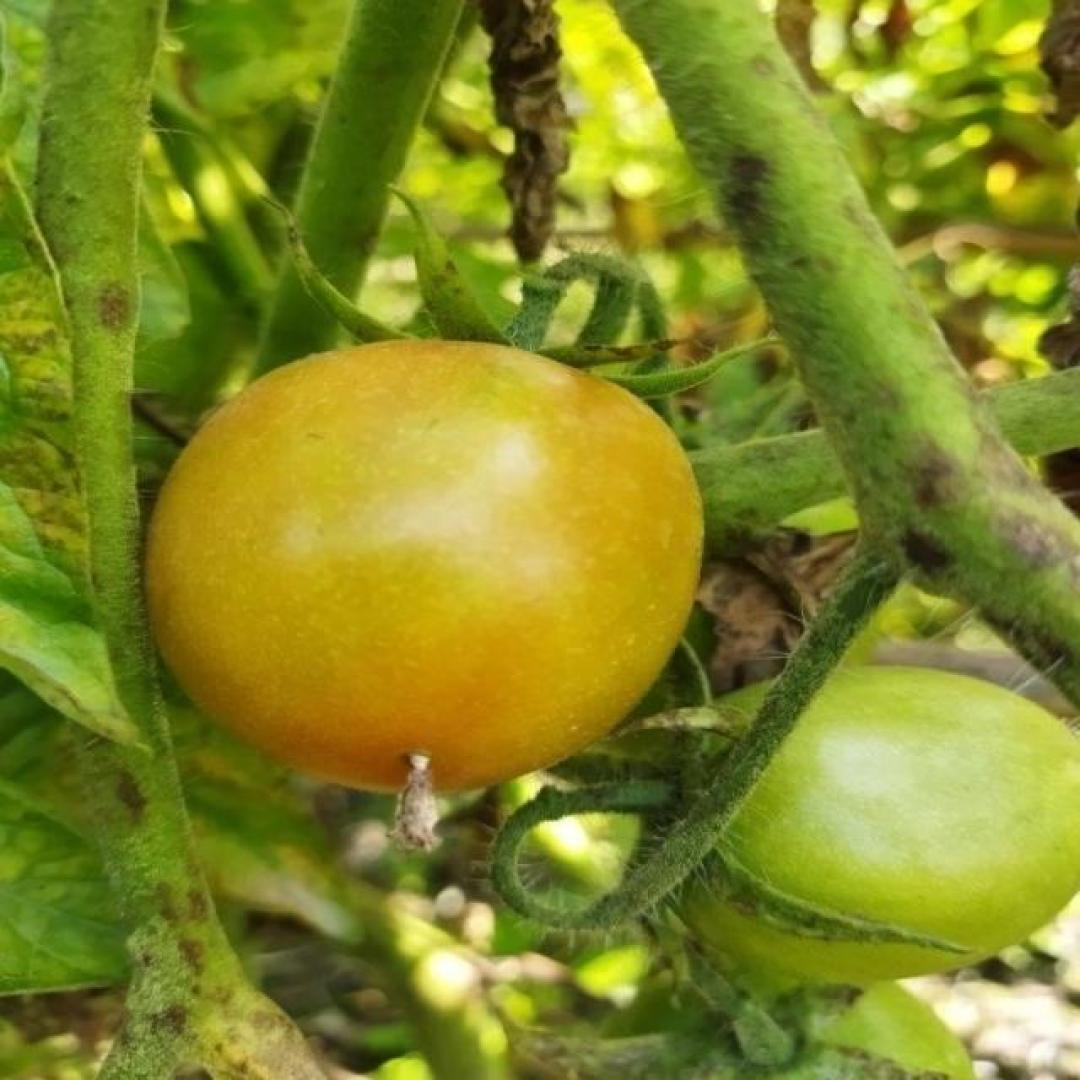mentah: (646, 662, 1075, 987)
setengah_matang: (135, 332, 710, 796)
